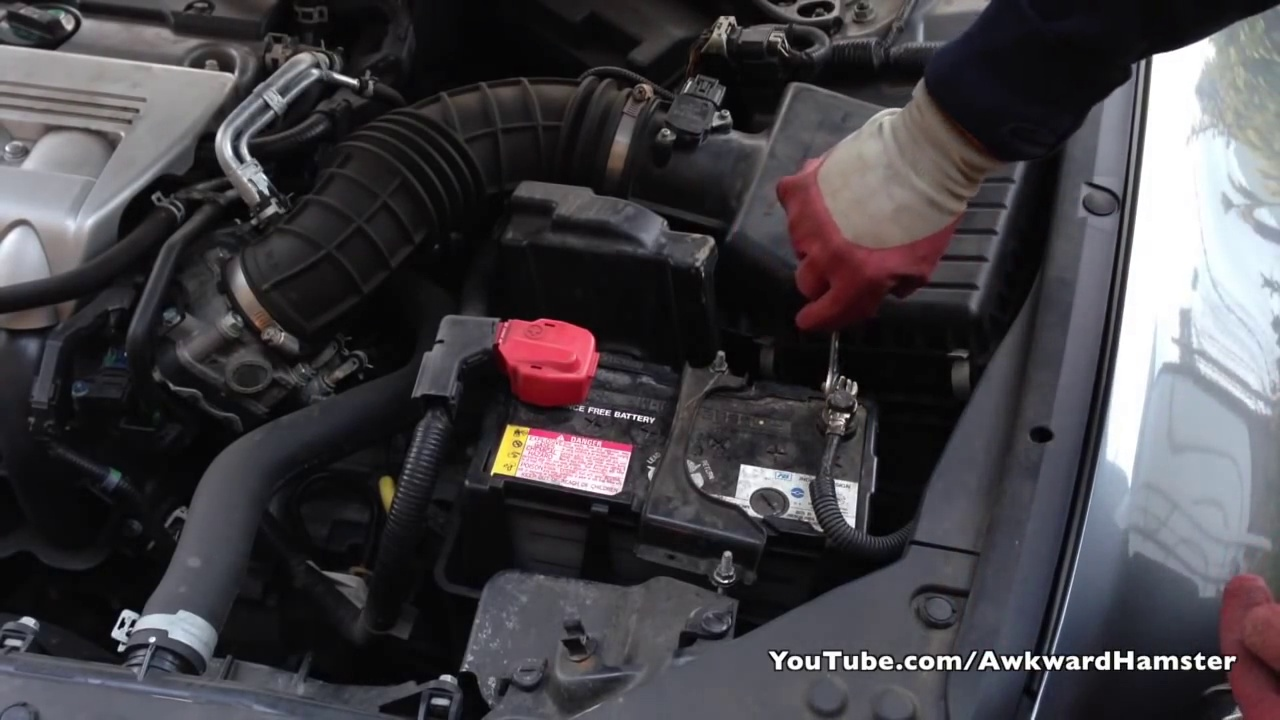battery: (470, 333, 881, 538)
neg_connected: (790, 348, 874, 488)
pos_connected: (466, 294, 617, 416)
